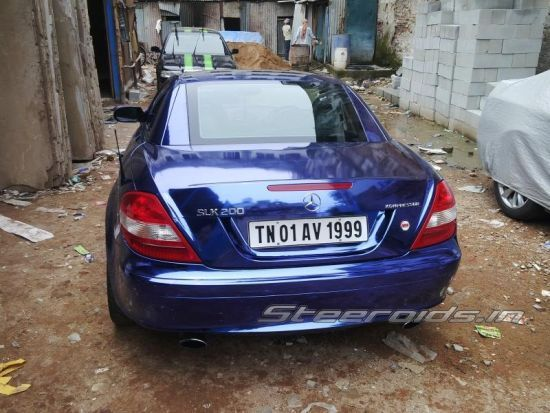T: (253, 224, 266, 246)
